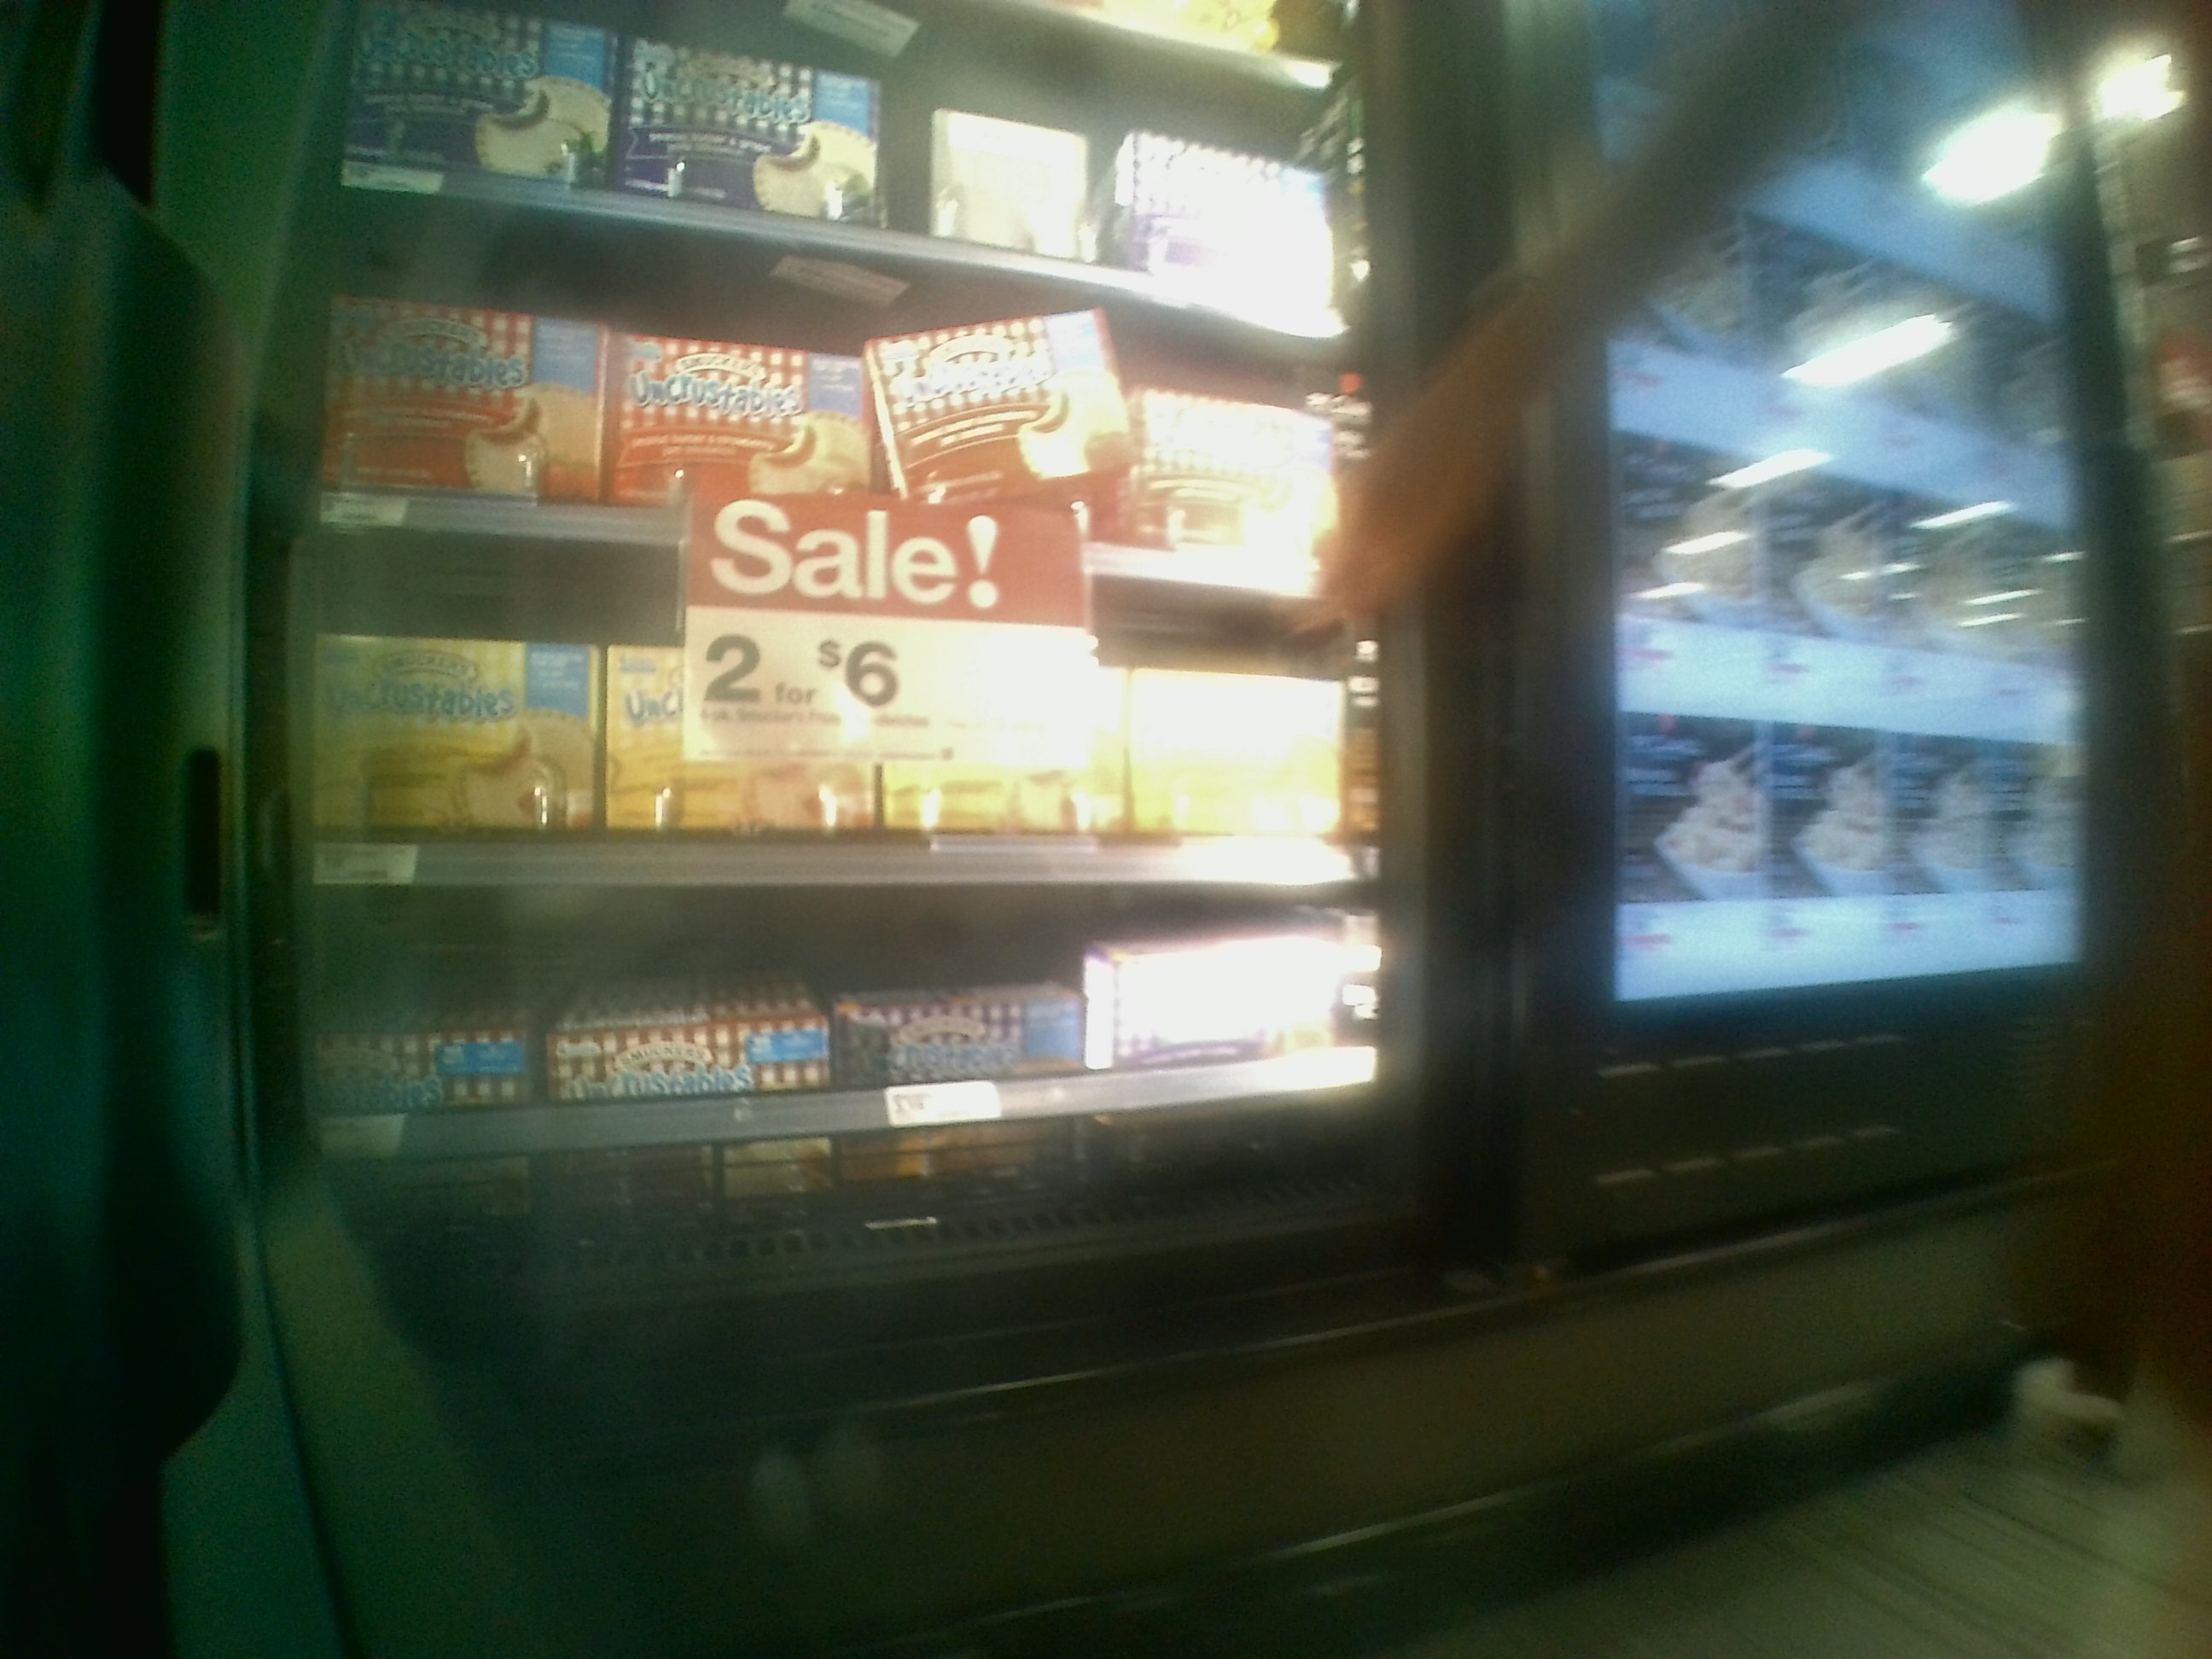shelf: (286, 877, 1421, 1239), (301, 230, 1366, 592), (296, 561, 1385, 901)
